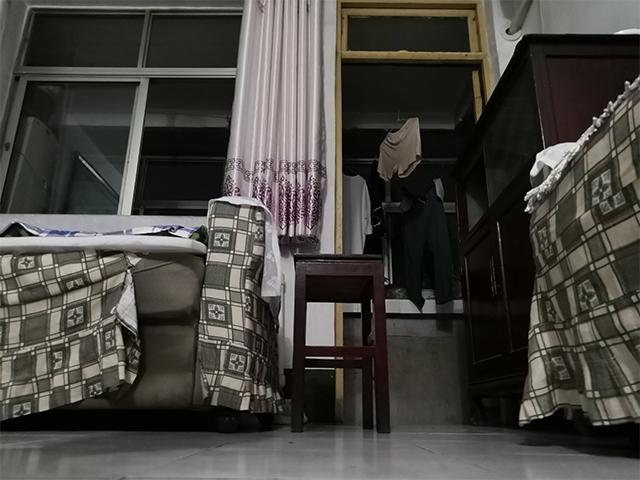bed: (1, 192, 286, 432)
cabinet: (447, 30, 640, 427)
curtain: (252, 1, 329, 246)
stool: (289, 251, 392, 435)
